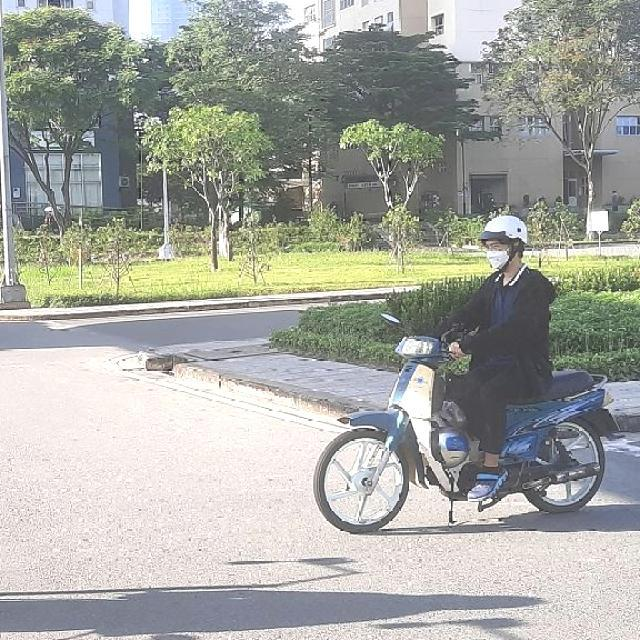Helmet: (477, 214, 530, 275)
